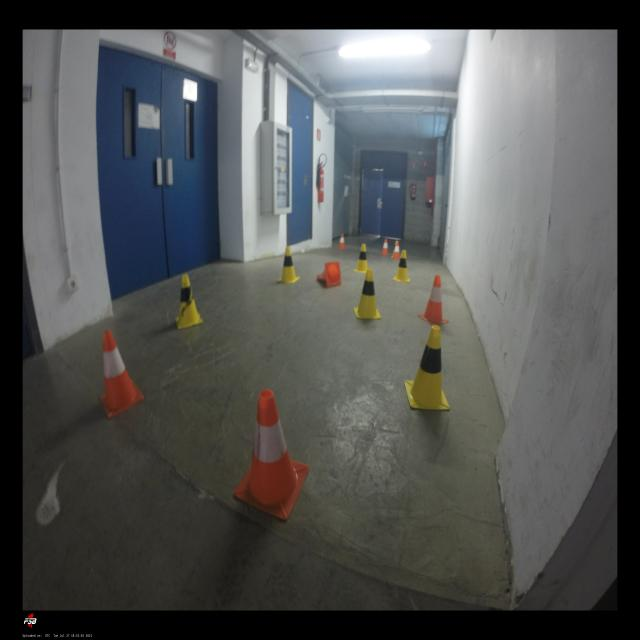orange_cone: (234, 389, 309, 520), (99, 330, 144, 419), (418, 275, 448, 325), (317, 261, 341, 287), (392, 242, 400, 260), (382, 239, 388, 255), (339, 234, 345, 249)
yellow_cone: (404, 325, 450, 410), (175, 273, 204, 329), (354, 269, 381, 319), (278, 247, 300, 283), (393, 250, 410, 283), (353, 244, 368, 274)
